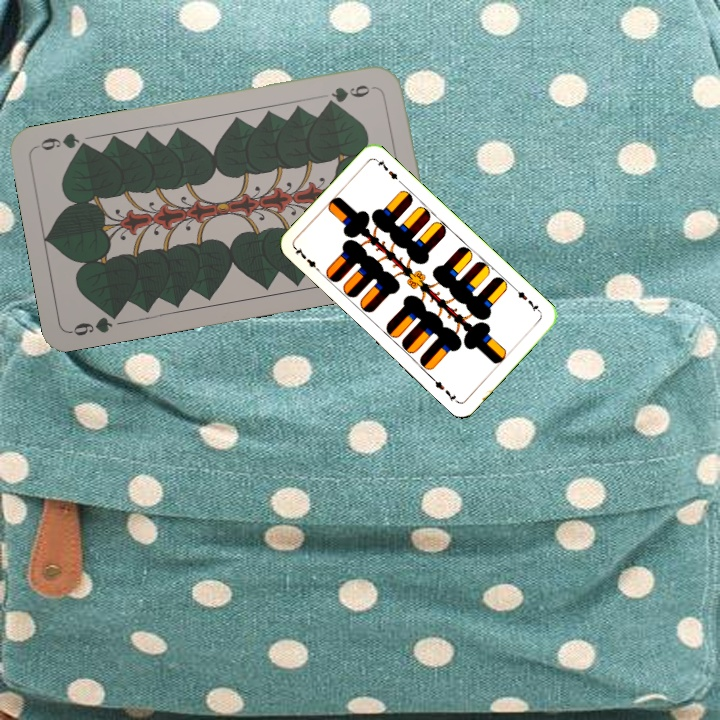E7: (510, 284, 543, 316), (291, 244, 324, 276)
G9: (67, 306, 123, 339), (322, 81, 378, 108)
